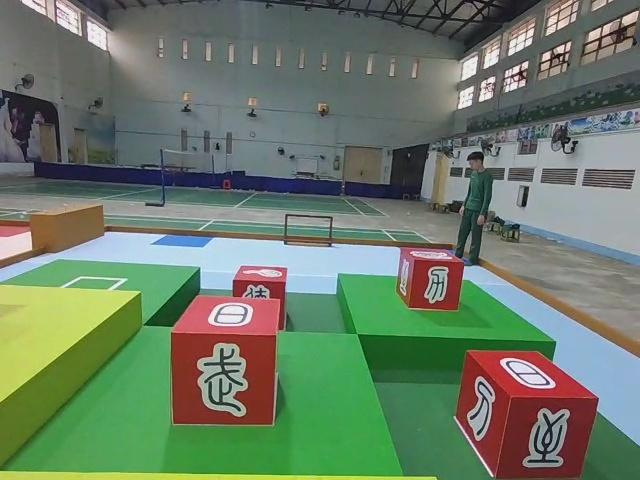R2 Fake: (450, 344, 602, 480), (165, 293, 282, 427), (396, 244, 465, 315), (233, 266, 291, 333)
